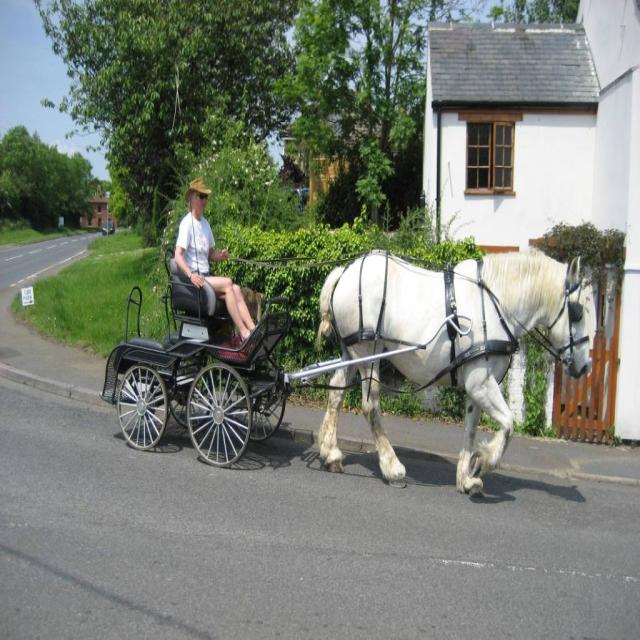car: (103, 220, 112, 234)
